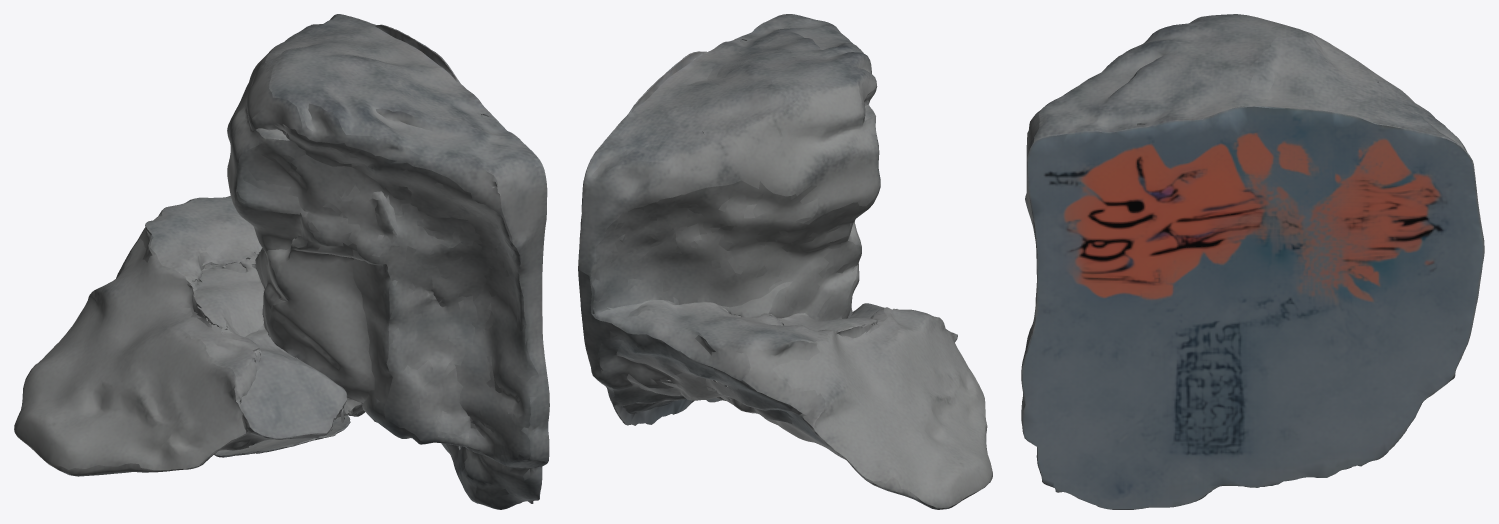
The picture shows the model from 3 angles, left to right: view 1: azimuth 30°, elevation 25°; view 2: azimuth 150°, elevation 25°; view 3: azimuth 270°, elevation 25°; orthographic projection. The views are drawn at different scales.
Visible parts, largest first — view 1: world; view 2: world; view 3: world.
Part boxes in pixels (x1,y1,x2,y2): world: (14, 14, 549, 509); world: (578, 14, 992, 509); world: (1021, 14, 1484, 509).
Size of the model in its own units: 1.34 by 1.5 by 1.5.
1 material, 1 textured.
